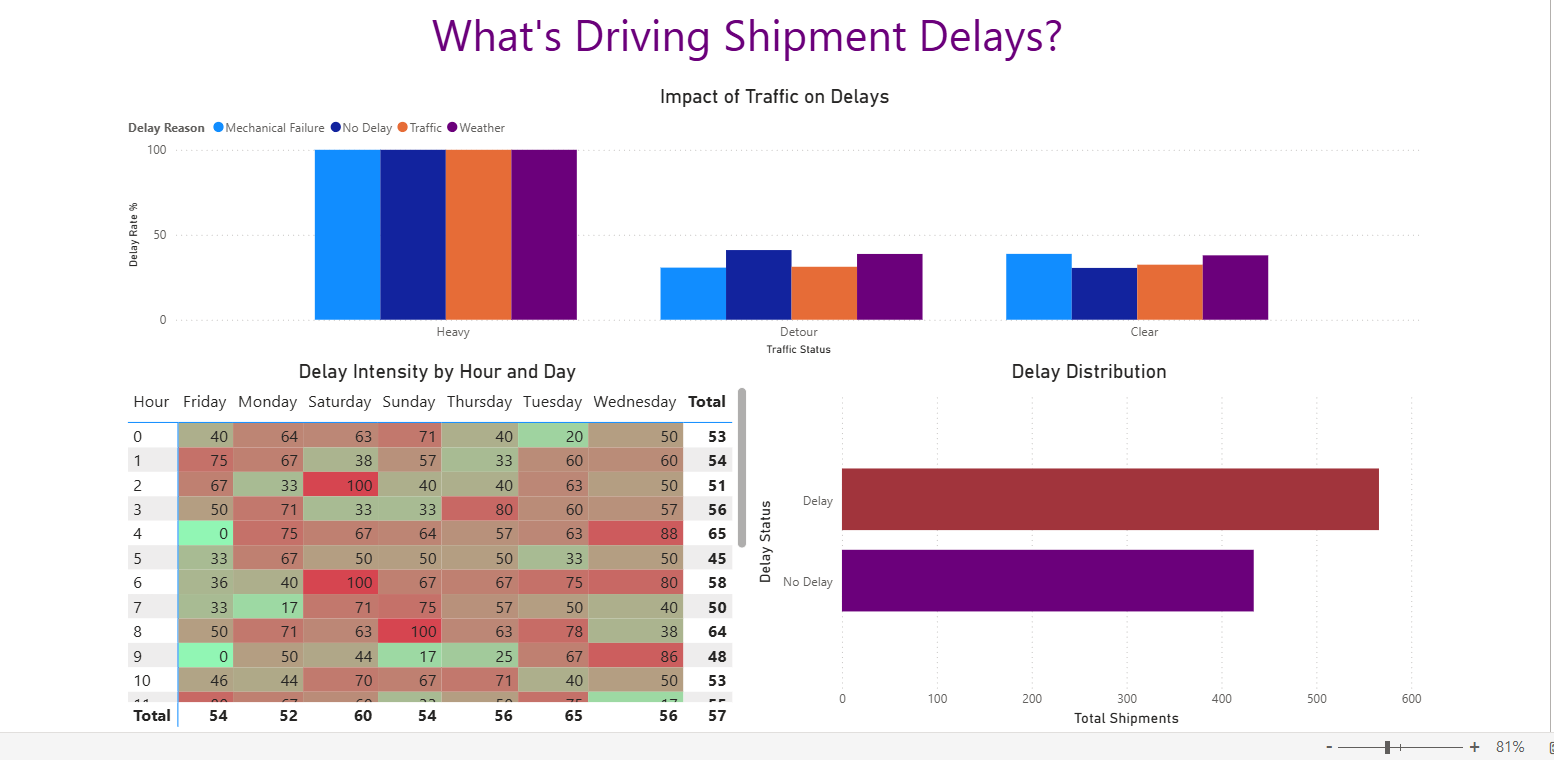

The dashboard page shown, as its layout file describes it:
{"tool":"powerbi","page":{"name":"Delay Analysis","canvas":[1280,720],"ordinal":1},"visuals":[{"type":"clusteredColumnChart","title":"Impact of Traffic on Delays","fields":{"Category":["supply_chain_cleaned.Traffic_Status"],"Y":["Key Measures.Delay Rate %"],"Series":["supply_chain_cleaned.Logistics_Delay_Reason"]},"box":[0,85.1,1280.3,270.3],"z":0},{"type":"pivotTable","title":"Delay Intensity by Hour and Day","fields":{"Rows":["supply_chain_cleaned.hour"],"Columns":["supply_chain_cleaned.day"],"Values":["Key Measures.Delay Rate %"]},"box":[0,355.4,617.5,365],"z":1},{"type":"barChart","title":"Delay Distribution","fields":{"Y":["Key Measures.Total Shipments"],"Category":["supply_chain_cleaned.Delay Status"]},"box":[617,355,663,365],"z":2},{"type":"textbox","box":[297.8,0,638.1,72.7],"z":3}]}

Visuals, with their boxes on the page's 1280x720 design canvas (x1, y1, x2, y2). These are canvas units, not pixel positions in the 1554x760 screenshot, which may show the page scaled, cropped or inside an application window:
"Impact of Traffic on Delays" clusteredColumnChart: <box>0,85,1280,355</box>
"Delay Intensity by Hour and Day" pivotTable: <box>0,355,618,720</box>
"Delay Distribution" barChart: <box>617,355,1280,720</box>
textbox: <box>298,0,936,73</box>
